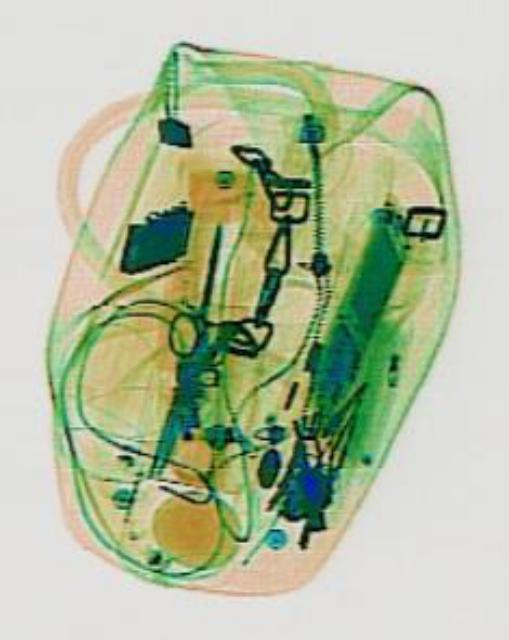Scissors: (161, 216, 246, 368)
